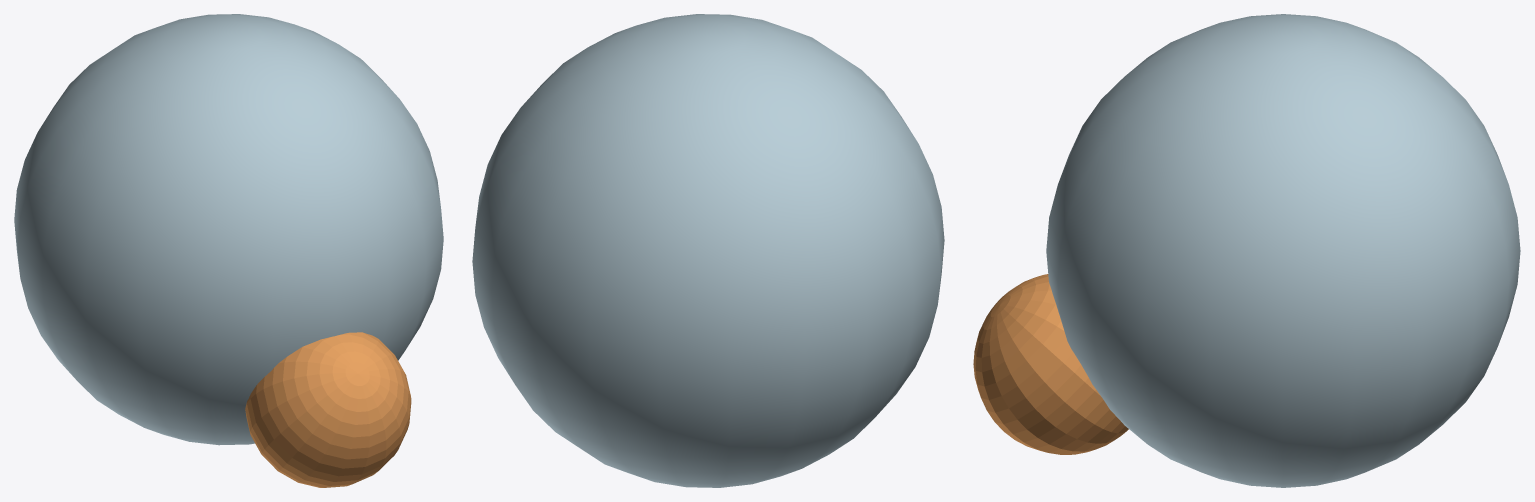
The model's file is TestExport.fbx.
The picture shows the model from 3 angles, left to right: view 1: azimuth 30°, elevation 25°; view 2: azimuth 150°, elevation 25°; view 3: azimuth 270°, elevation 25°; orthographic projection. The views are drawn at different scales.
Visible parts, largest first — view 1: pSphere4, pSphere3; view 2: pSphere4; view 3: pSphere4, pSphere3.
Boxes of the visible parts, x1=… form: pSphere4: x1=14, y1=14, x2=443, y2=445; pSphere3: x1=245, y1=332, x2=411, y2=487; pSphere4: x1=472, y1=14, x2=944, y2=487; pSphere4: x1=1046, y1=14, x2=1520, y2=487; pSphere3: x1=973, y1=274, x2=1128, y2=454.
Bounding box in the file's own units: 4000 × 4000 × 4614.
